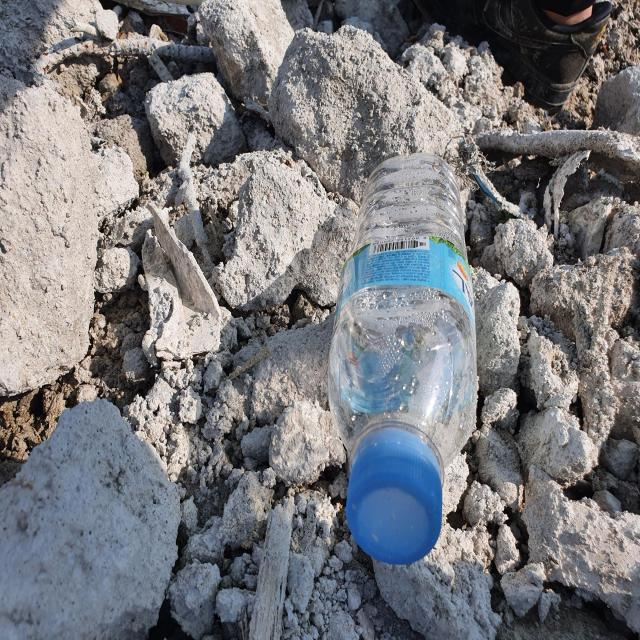plastic: (328, 152, 478, 564)
